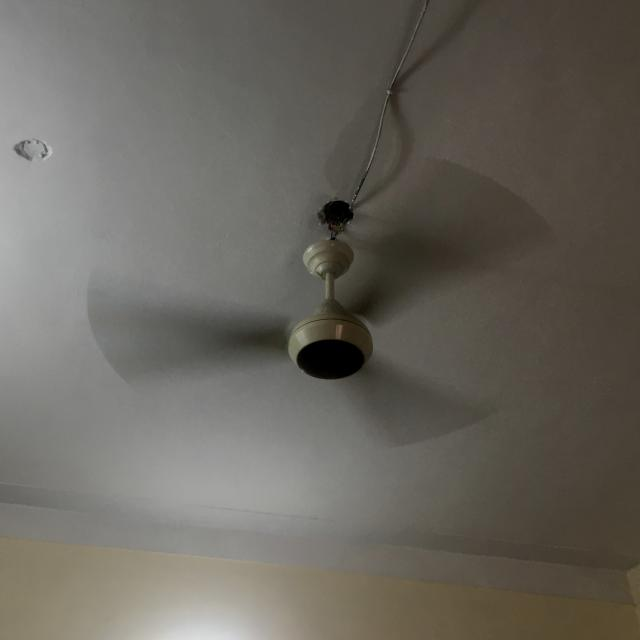on: (76, 144, 562, 453)
